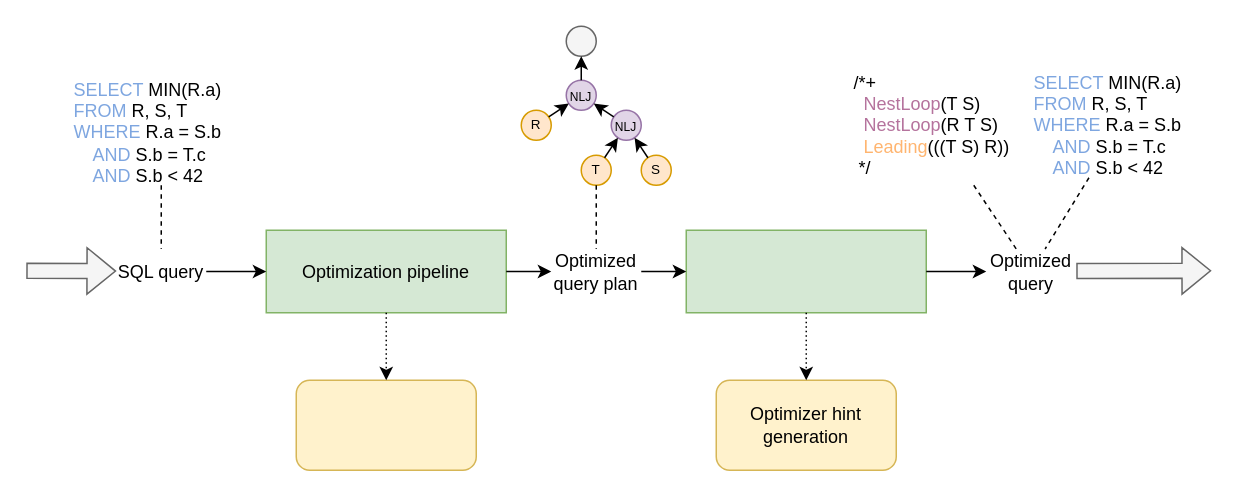
The diagram is 1238 pixels wide and 497 high, and some of its shapes have lost their labels. Each missing label, with the box of its shape:
Agg: (565, 25, 596, 56)
different optimization strategies: (295, 379, 476, 470)
Target database system: (685, 229, 926, 313)
